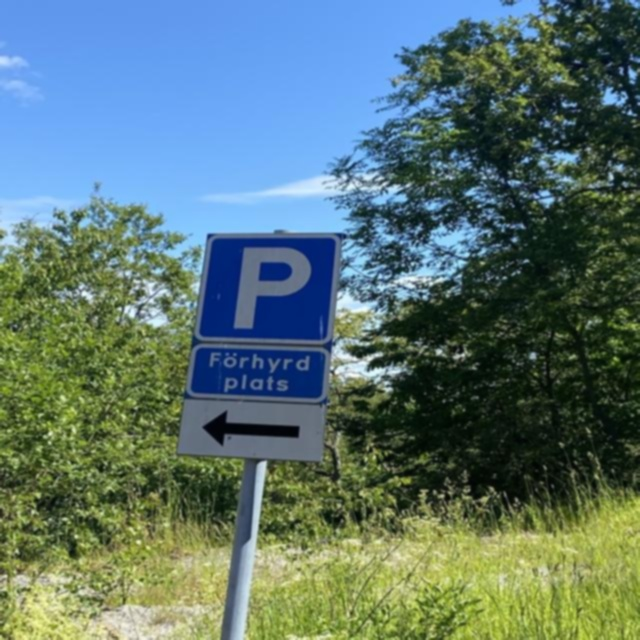P-skylt: (204, 234, 330, 342)
